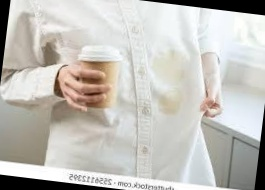coffee: (151, 51, 186, 85), (158, 86, 183, 116)
